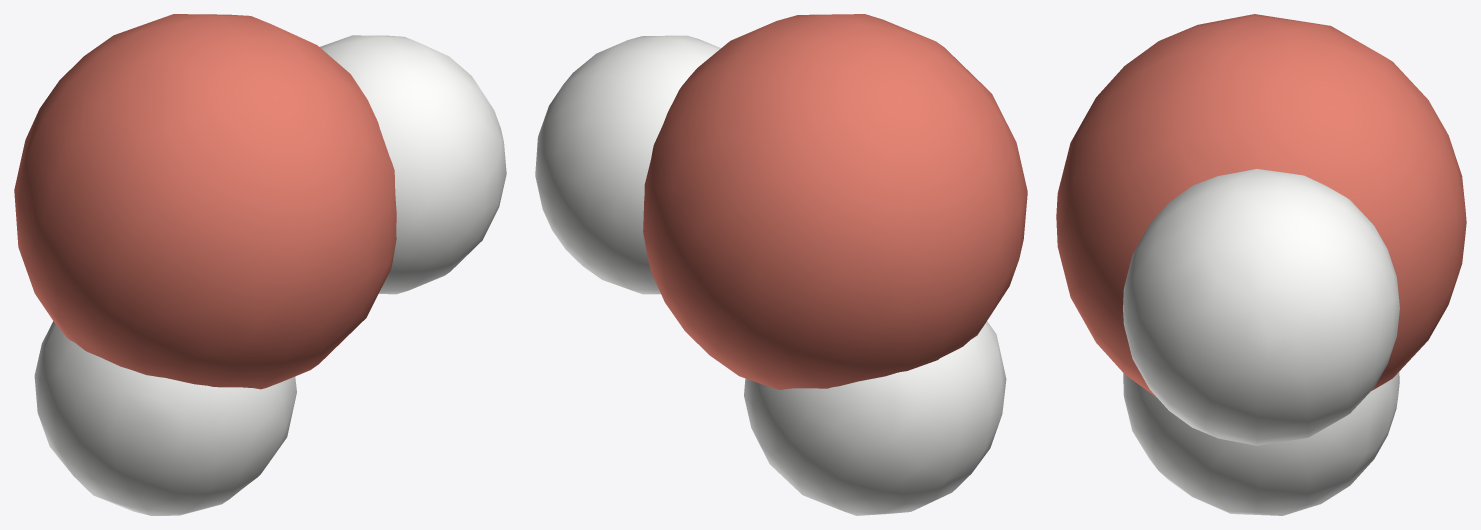
Rendered from water.fbx.
3 renders of one model, left to right at view 1: azimuth 30°, elevation 25°; view 2: azimuth 150°, elevation 25°; view 3: azimuth 270°, elevation 25°, orthographic. The views are drawn at different scales.
Visible parts, largest first — view 1: Hydrogen #1; view 2: Hydrogen #1; view 3: Hydrogen #1.
Boxes of the visible parts, x1,y1,x2,y2 form: Hydrogen #1: (14, 14, 506, 515); Hydrogen #1: (535, 14, 1027, 515); Hydrogen #1: (1056, 14, 1466, 515).
Bounding box in the file's own units: 161 × 158 × 120.
